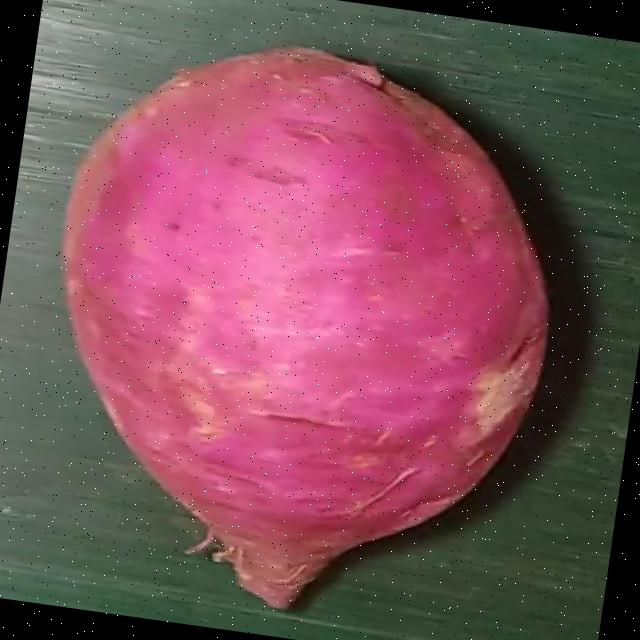Sweet Potato: (59, 42, 549, 607)
